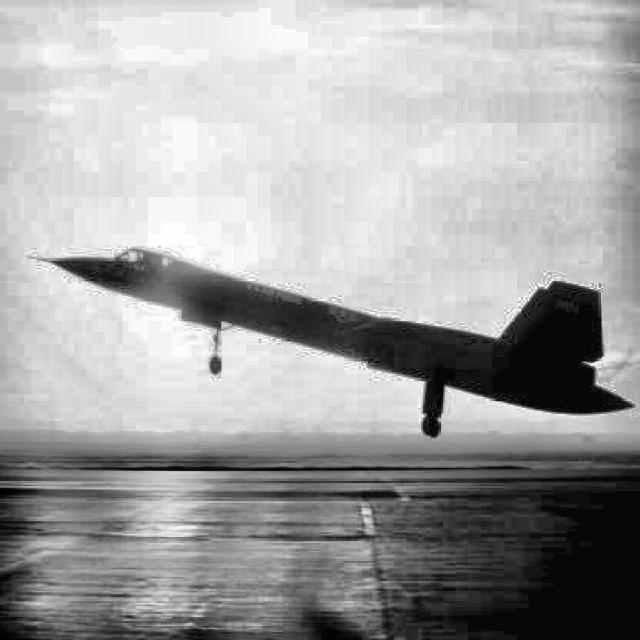SR71: (27, 247, 636, 438)
